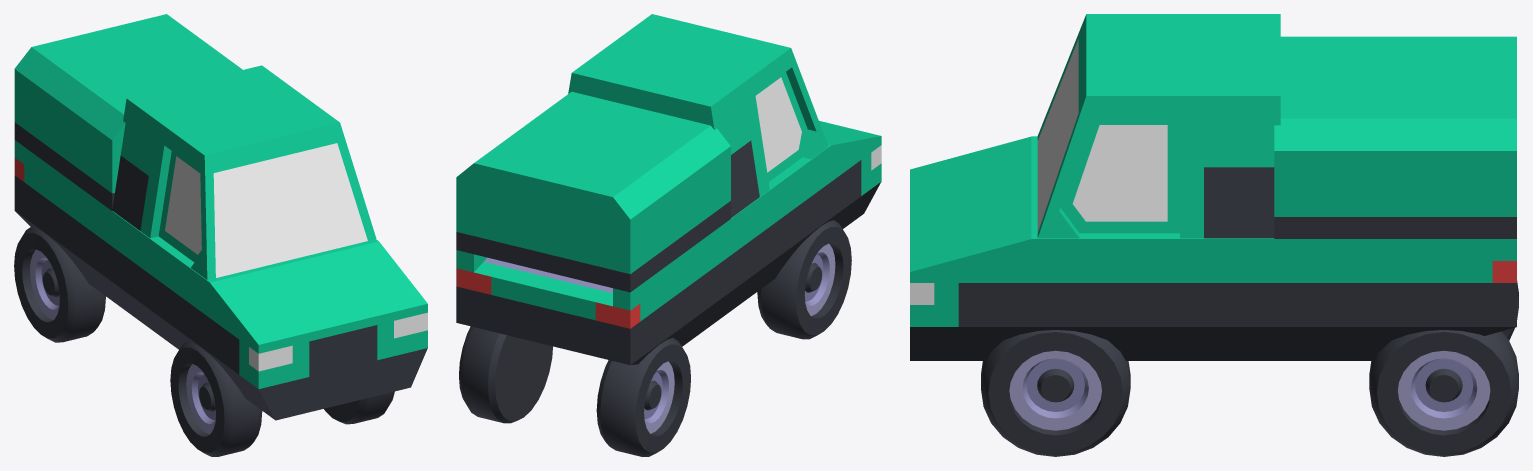
The model's file is DefaultTruck.fbx.
3 renders of one model, left to right at view 1: azimuth 30°, elevation 25°; view 2: azimuth 150°, elevation 25°; view 3: azimuth 270°, elevation 25°, orthographic. The views are drawn at different scales.
Parts seen in each view (by area): view 1: body_topVan, body_frontTruckShort, body_topBackCargo, wheel_standard (×3), body_standard, body_backFins; view 2: body_topBackCargo, body_topVan, wheel_standard (×3), body_backFins, body_standard, body_frontTruckShort; view 3: body_topVan, body_topBackCargo, wheel_standard (×2), body_standard, body_backFins, body_frontTruckShort.
Part boxes in pixels (x1,y1,x2,y2): body_topVan: (112, 65, 376, 279); body_frontTruckShort: (210, 241, 427, 420); body_topBackCargo: (14, 14, 242, 210); wheel_standard (×3): (14, 226, 394, 456); body_standard: (112, 211, 378, 355); body_backFins: (14, 140, 128, 312); body_topBackCargo: (456, 91, 730, 292); body_topVan: (568, 14, 828, 217); wheel_standard (×3): (459, 220, 851, 456); body_backFins: (456, 219, 730, 365); body_standard: (714, 144, 831, 323); body_frontTruckShort: (819, 121, 881, 228); body_topVan: (1037, 14, 1280, 238); body_topBackCargo: (1274, 36, 1516, 238); wheel_standard (×2): (981, 330, 1518, 456); body_standard: (1031, 136, 1274, 360); body_backFins: (1274, 239, 1516, 360); body_frontTruckShort: (910, 136, 1031, 360).
Size of the model in its own units: 10.16 by 16.11 by 25.08.
